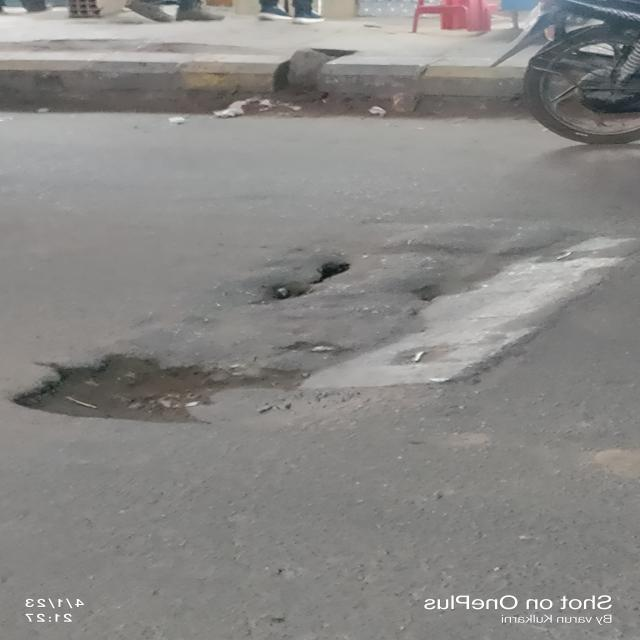potholes: (6, 212, 635, 432)
